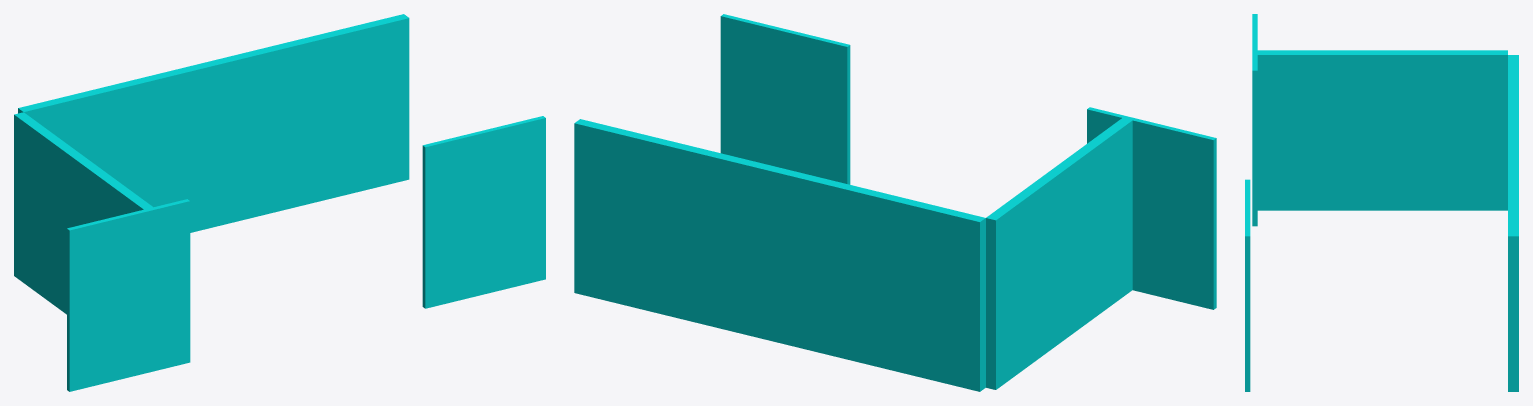
The model's file is 3d_stanza_pre_3b.fbx.
3 renders of one model, left to right at view 1: azimuth 30°, elevation 25°; view 2: azimuth 150°, elevation 25°; view 3: azimuth 270°, elevation 25°, orthographic. The views are drawn at different scales.
Visible parts, largest first — view 1: muro_lungo1, muro_stretto1, muro_stretto, muro_medio; view 2: muro_lungo1, muro_medio, muro_stretto, muro_stretto1; view 3: muro_medio, muro_lungo1, muro_stretto1, muro_stretto.
Part boxes in pixels (left/top/right/bottom): muro_lungo1: left=18, top=14, right=409, bottom=232; muro_stretto1: left=67, top=199, right=190, bottom=391; muro_stretto: left=422, top=116, right=545, bottom=308; muro_medio: left=14, top=112, right=152, bottom=314; muro_lungo1: left=574, top=119, right=985, bottom=391; muro_medio: left=986, top=118, right=1132, bottom=389; muro_stretto: left=720, top=14, right=850, bottom=184; muro_stretto1: left=1087, top=107, right=1216, bottom=309; muro_medio: left=1257, top=50, right=1507, bottom=210; muro_lungo1: left=1508, top=55, right=1518, bottom=391; muro_stretto1: left=1252, top=14, right=1257, bottom=226; muro_stretto: left=1245, top=179, right=1250, bottom=391.
Bounding box in the file's own units: 24.5 × 8 × 12.75.
